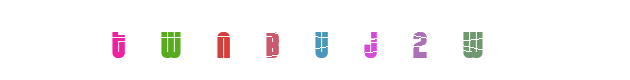2: (339, 0, 419, 80)
B: (274, 0, 354, 80)
J: (281, 0, 361, 80)
N: (207, 0, 287, 80)
T: (78, 0, 158, 80)
U: (276, 0, 356, 80)
W: (130, 0, 210, 80), (429, 0, 509, 80)
